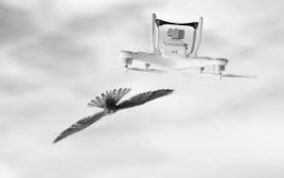Bird: (47, 81, 176, 146)
Drone: (116, 9, 260, 85)
